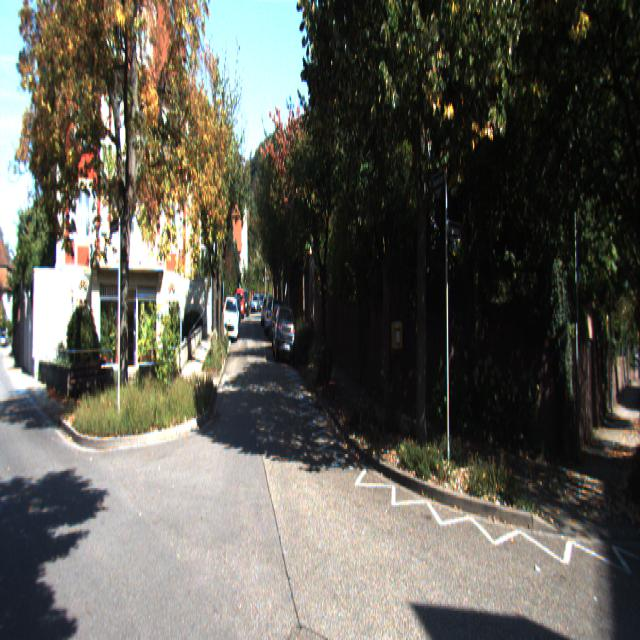Car: (272, 302, 296, 367), (223, 295, 240, 343)
